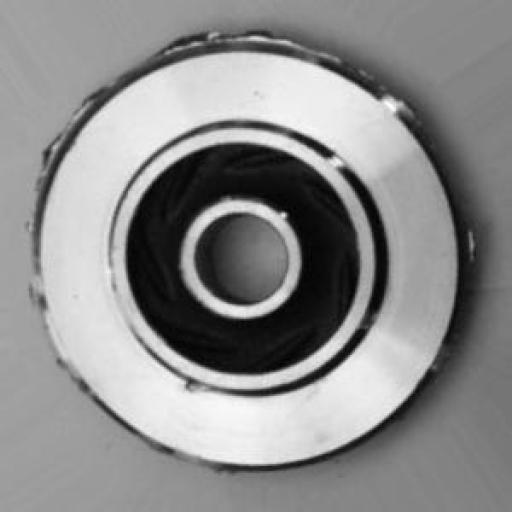defect: (27, 13, 489, 461)
